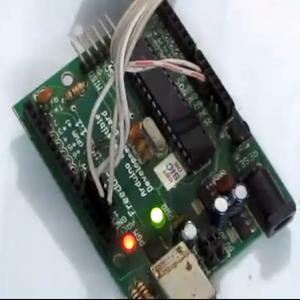duino: (15, 2, 297, 300)
